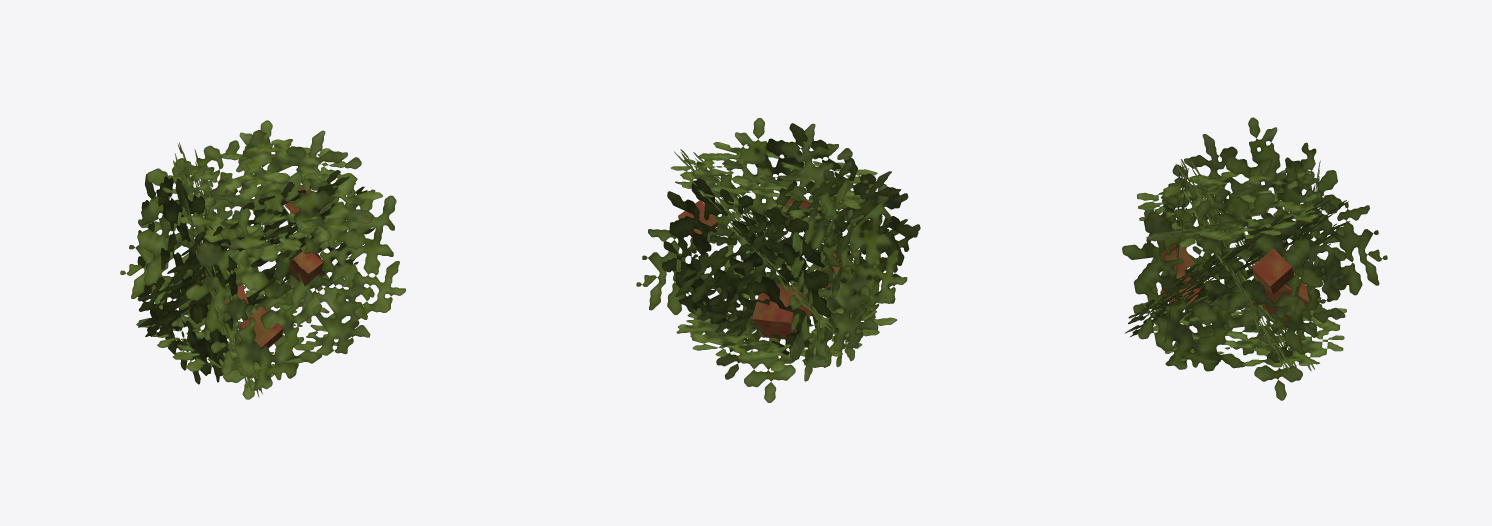
The model's file is apple_leaves_4.obj.
3 views of the same model, side by side, from view 1: azimuth 30°, elevation 25°; view 2: azimuth 150°, elevation 25°; view 3: azimuth 270°, elevation 25° (orthographic). The views are drawn at different scales.
Visible parts, largest first — view 1: diagonal_3, north, top, east, diagonal_1, south, bottom, cube, diagonal_2; view 2: diagonal_1, diagonal_2, south, east, top, bottom, north, cube, diagonal_3; view 3: west, diagonal_2, top, east, diagonal_3, bottom, cube, diagonal_1, north.
Part boxes in pixels (x1,y1,x2,y2): diagonal_3: (120,120,405,399); north: (185,171,374,390); top: (162,139,382,260); east: (137,174,237,384); diagonal_1: (137,170,374,360); south: (137,130,311,332); bottom: (136,285,344,371); cube: (189,186,324,349); diagonal_2: (173,142,262,397); diagonal_1: (636,118,907,402); diagonal_2: (675,161,920,379); south: (662,178,830,354); east: (789,178,882,381); top: (671,142,877,219); bottom: (676,287,897,371); north: (739,123,918,304); cube: (678,199,848,339); diagonal_3: (674,149,837,335); west: (1122,192,1322,371); diagonal_2: (1140,117,1387,400); top: (1137,169,1321,247); east: (1160,155,1346,329); diagonal_3: (1125,197,1349,336); bottom: (1153,297,1346,367); cube: (1160,244,1309,329); diagonal_1: (1175,159,1315,378); north: (1161,165,1188,342).
Bounding box in the file's own units: 2.81 × 2.52 × 2.53.
